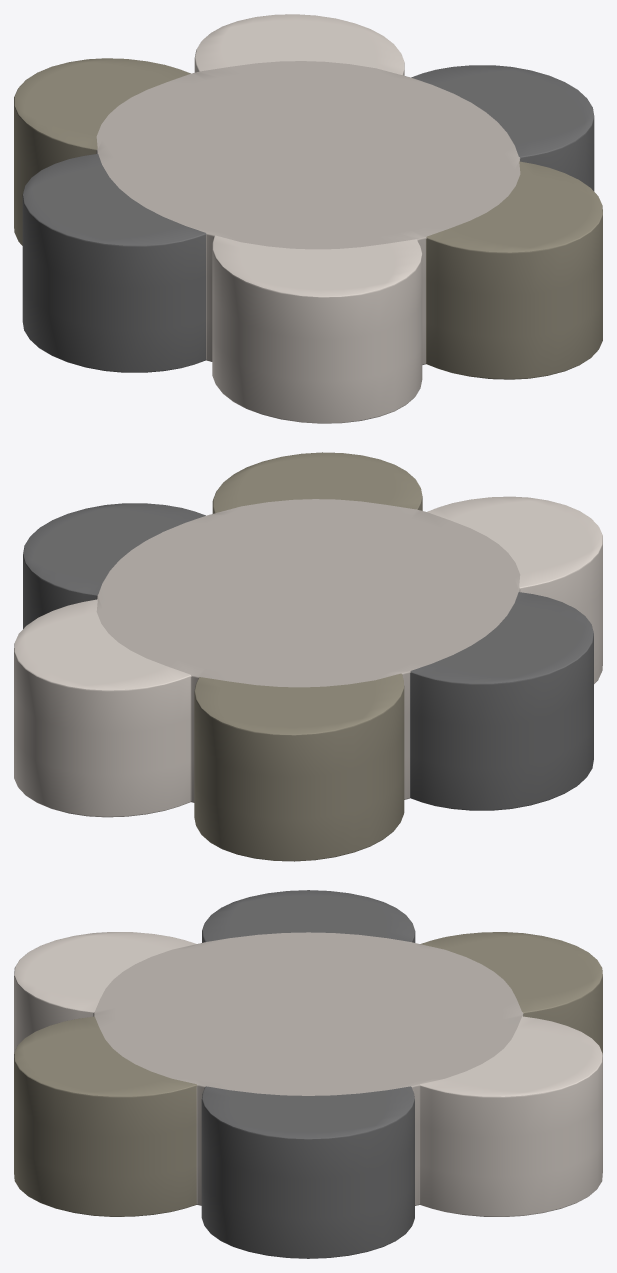
The model's file is grey-blomst.glb.
3 views of the same model, one above another, from view 1: azimuth 30°, elevation 25°; view 2: azimuth 150°, elevation 25°; view 3: azimuth 270°, elevation 25° (orthographic). The views are drawn at different scales.
Parts seen in each view (by area): view 1: Circle.001; view 2: Circle.001; view 3: Circle.001.
Boxes of the visible parts, x1,y1,x2,y2 form: Circle.001: [14, 14, 602, 423]; Circle.001: [14, 452, 602, 861]; Circle.001: [14, 890, 602, 1258].
Size of the model in its own units: 0.62 by 0.14 by 0.6198.
